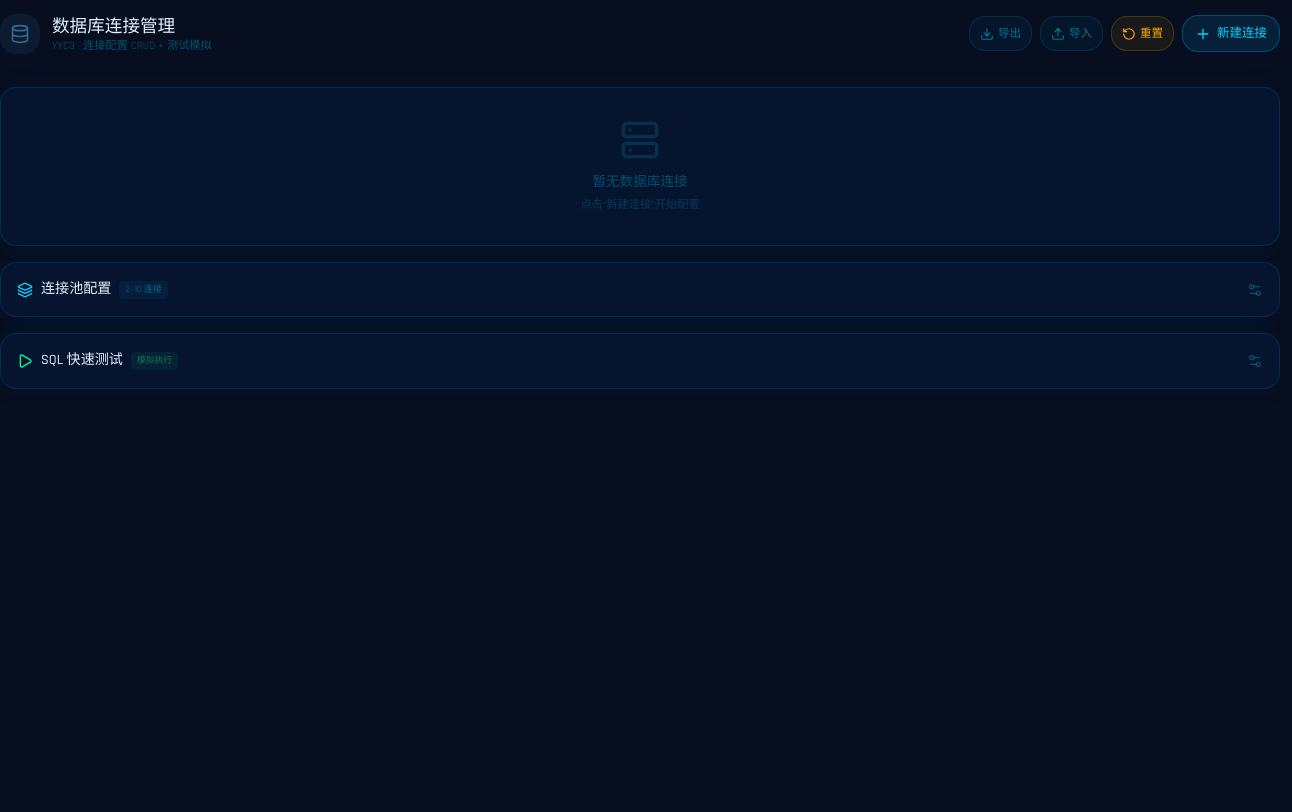
Test: DatabaseConnectionPanel › 连接池配置 › expands pool config on click
What coordinates should you click on to do the following:
click the heading "连接池配置"
I would click on:
 (76, 290)
Its box is 41,279 -> 111,300.
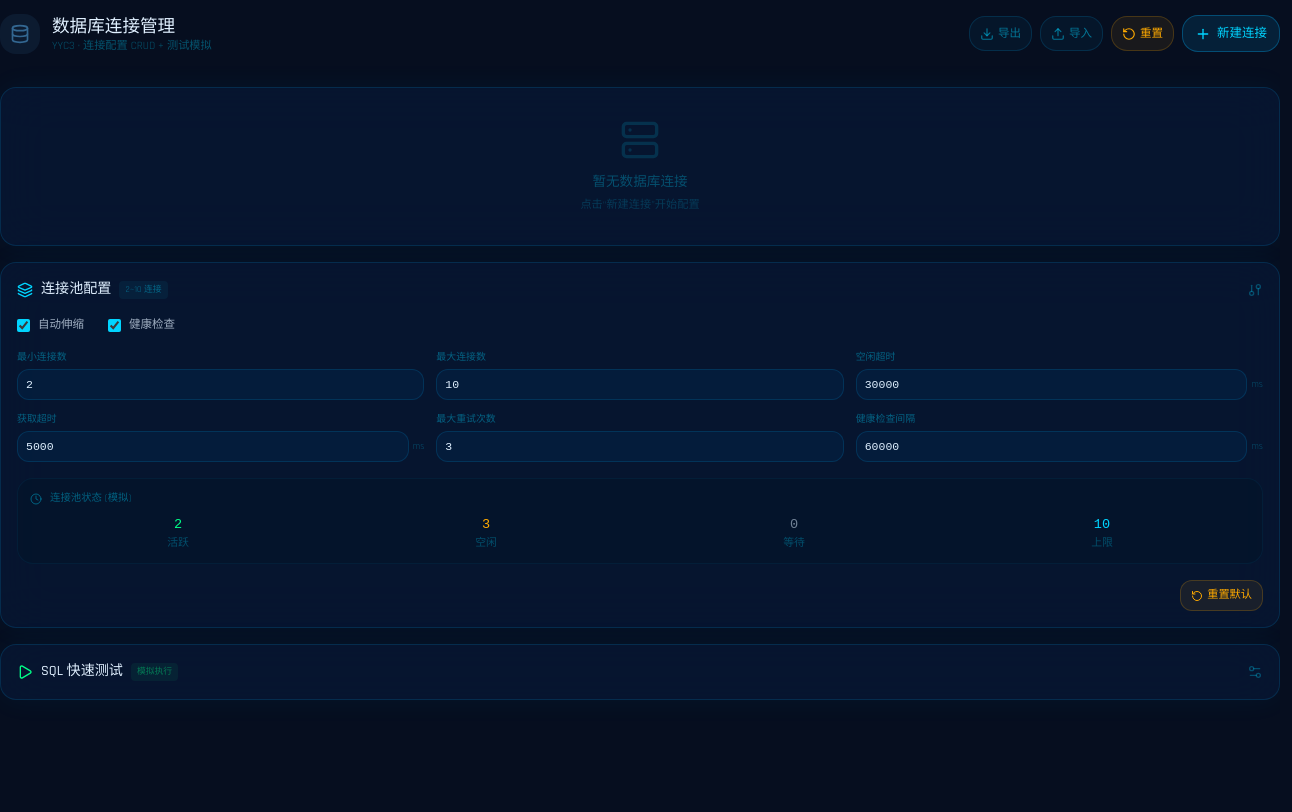
Check: the text "自动伸缩" is shown, box 38,316 -> 84,334
Check: the text "健康检查" is shown, box 129,316 -> 175,334
